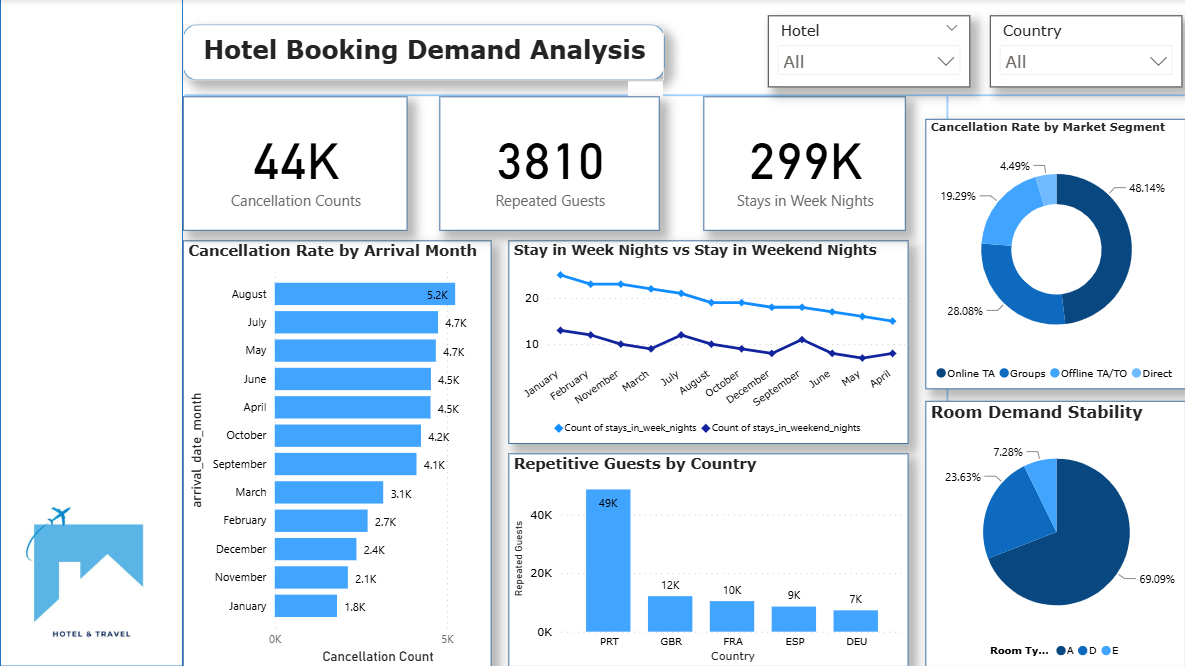

What the dashboard file says about the page in this screenshot:
{"tool":"powerbi","page":{"name":"Hotel Booking Demand Analysis Dashboard","canvas":[1280,720],"ordinal":0},"visuals":[{"type":"shape","box":[0,0,197.4,720],"z":0},{"type":"shape","box":[198.5,77.6,1082.1,52.2],"z":1000},{"type":"shape","box":[976.1,104.5,92.5,614.9],"z":2000},{"type":"textbox","box":[197,26.9,519.4,59.7],"z":3000},{"type":"barChart","title":"Cancellation Rate by Arrival Month","fields":{"Category":["Hotel Bookings.arrival_date_month"],"Y":["Hotel Bookings.Cancellation Count"]},"box":[197,259.7,332.8,459.7],"z":4000},{"type":"lineChart","title":"Stay in Week Nights vs Stay in Weekend Nights","fields":{"Y":["Count(Hotel Bookings.stays_in_week_nights)","Count(Hotel Bookings.stays_in_weekend_nights)"],"Category":["Hotel Bookings.arrival_date_month"]},"box":[547.8,259.7,431.3,219.4],"z":5000},{"type":"columnChart","title":"Repetitive Guests by Country","fields":{"Category":["Hotel Bookings.country"],"Y":["CountNonNull(Hotel Bookings.is_repeated_guest)"]},"box":[547.8,489.6,431.3,229.9],"z":6000},{"type":"donutChart","title":"Cancellation Rate by Market Segment","fields":{"Category":["Hotel Bookings.market_segment"],"Y":["Hotel Bookings.Cancellation Count"]},"box":[998.5,129.9,280.6,291],"z":7000},{"type":"pieChart","title":"Room Demand Stability","fields":{"Category":["Hotel Bookings.assigned_room_type"],"Y":["CountNonNull(Hotel Bookings.previous_bookings_not_canceled)"]},"box":[998.5,432.8,280.6,286.6],"z":8000},{"type":"card","fields":{"Values":["Hotel Bookings.Cancellation Count"]},"box":[197,104.5,241.8,144.8],"z":9000},{"type":"card","fields":{"Values":["Sum(Hotel Bookings.is_repeated_guest)"]},"box":[474.6,104.5,237.3,144.8],"z":10000},{"type":"card","fields":{"Values":["Sum(Hotel Bookings.stays_in_week_nights)"]},"box":[758.2,104.5,217.9,144.8],"z":11000},{"type":"slicer","fields":{"Values":["Hotel Bookings.country"]},"box":[1068.7,17.9,207.5,77.6],"z":12000},{"type":"slicer","fields":{"Values":["Hotel Bookings.hotel"]},"box":[828.4,17.9,217.9,77.6],"z":13000}]}

Visuals, with their boxes in screenshot pixels (x1, y1, x2, y2), scaled from the page's 1280x720 canvas onto the 1185x666 screenshot:
shape: bbox=(0, 0, 183, 665)
shape: bbox=(184, 72, 1184, 120)
shape: bbox=(904, 97, 989, 665)
textbox: bbox=(182, 25, 663, 80)
"Cancellation Rate by Arrival Month" barChart: bbox=(182, 240, 490, 665)
"Stay in Week Nights vs Stay in Weekend Nights" lineChart: bbox=(507, 240, 906, 443)
"Repetitive Guests by Country" columnChart: bbox=(507, 453, 906, 665)
"Cancellation Rate by Market Segment" donutChart: bbox=(924, 120, 1184, 389)
"Room Demand Stability" pieChart: bbox=(924, 400, 1184, 665)
card - Hotel Bookings.Cancellation Count: bbox=(182, 97, 406, 231)
card - Sum(Hotel Bookings.is_repeated_guest): bbox=(439, 97, 659, 231)
card - Sum(Hotel Bookings.stays_in_week_nights): bbox=(702, 97, 904, 231)
slicer - Hotel Bookings.country: bbox=(989, 17, 1181, 88)
slicer - Hotel Bookings.hotel: bbox=(767, 17, 969, 88)
